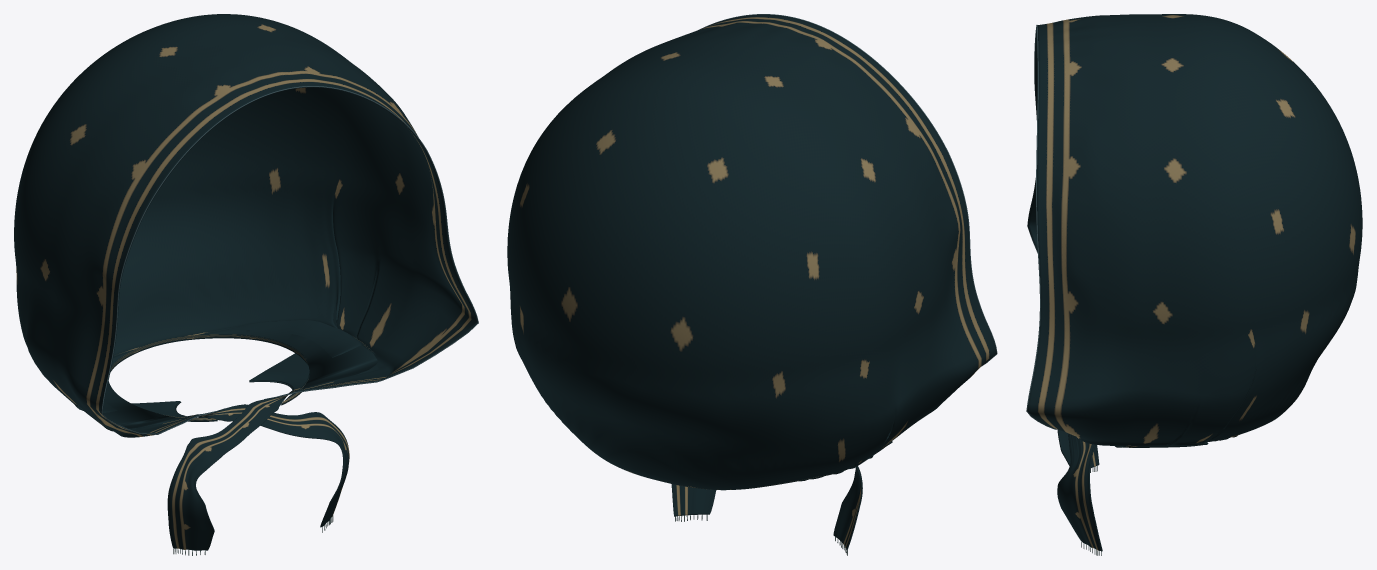
The model's file is Feminine-Feminine-straight-open-pashmina250-headgear-0f399e15.glb.
3 views of the same model, side by side, from view 1: azimuth 30°, elevation 25°; view 2: azimuth 150°, elevation 25°; view 3: azimuth 270°, elevation 25° (orthographic). The views are drawn at different scales.
Parts seen in each view (by area): view 1: 226 headgear / Headwear / continuous woven pashmina239, 226 headgear / Headwear / face edge239; view 2: 226 headgear / Headwear / continuous woven pashmina239, 226 headgear / Headwear / face edge239; view 3: 226 headgear / Headwear / continuous woven pashmina239, 226 headgear / Headwear / face edge239.
Boxes of the visible parts, box(x1,y1,x2,y2) form: 226 headgear / Headwear / continuous woven pashmina239: box(14, 14, 478, 550); 226 headgear / Headwear / face edge239: box(101, 86, 478, 434); 226 headgear / Headwear / continuous woven pashmina239: box(507, 14, 996, 549); 226 headgear / Headwear / face edge239: box(699, 14, 997, 366); 226 headgear / Headwear / continuous woven pashmina239: box(1027, 14, 1362, 551); 226 headgear / Headwear / face edge239: box(1026, 25, 1057, 429).
Bounding box in the file's own units: 1.17 × 1.42 × 0.889.
Materials: 3 (1 with a texture image).
